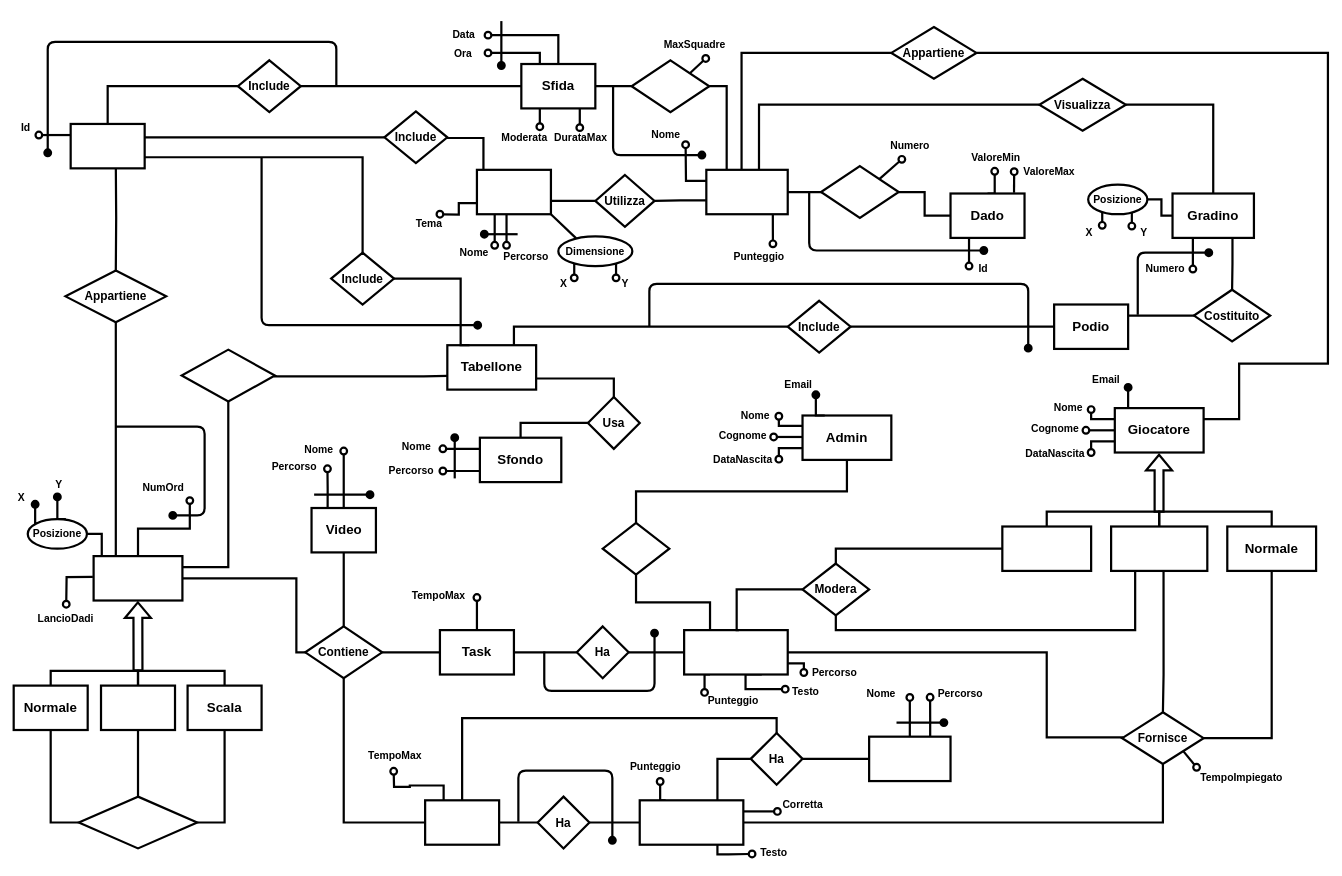
Some shapes in this 1342 by 876 pixel diagram are drawn without their labels. Here are the shapes that lost their labels. From the top down, the centre of each, then its label:
At (x=670, y=86): "Partecipa".
At (x=107, y=145): "Gioco".
At (x=513, y=191): "Icona".
At (x=746, y=191): "Squadra".
At (x=859, y=192): "Possiede".
At (x=228, y=375): "Posizionata".
At (x=635, y=548): "Valida".
At (x=1046, y=548): "Coach".
At (x=1159, y=548): "Caposquadra".
At (x=137, y=578): "Casella".
At (x=735, y=652): "RispostaTask".
At (x=138, y=707): "Serpente".
At (x=909, y=758): "Immagine".
At (x=137, y=822): "Destinazione".
At (x=462, y=822): "Quiz".
At (x=691, y=822): "RispostaQuiz".
